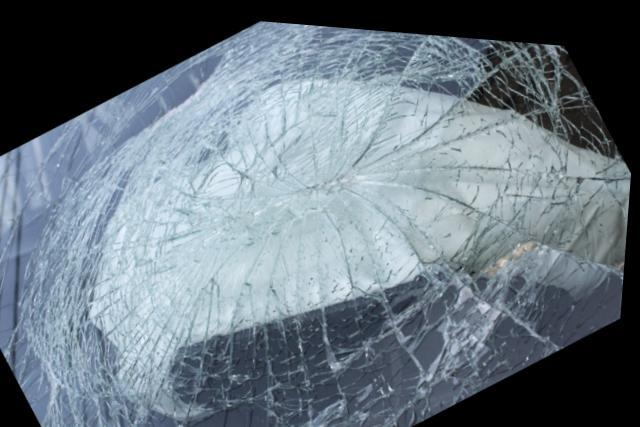glass shatter: (0, 17, 633, 427)
